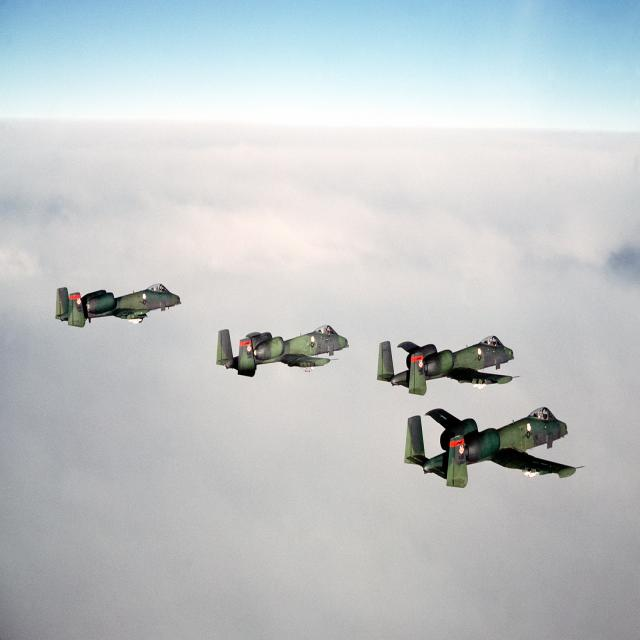MIL_Plane: (404, 407, 587, 488), (376, 335, 522, 396), (216, 324, 349, 378), (55, 283, 182, 328)
